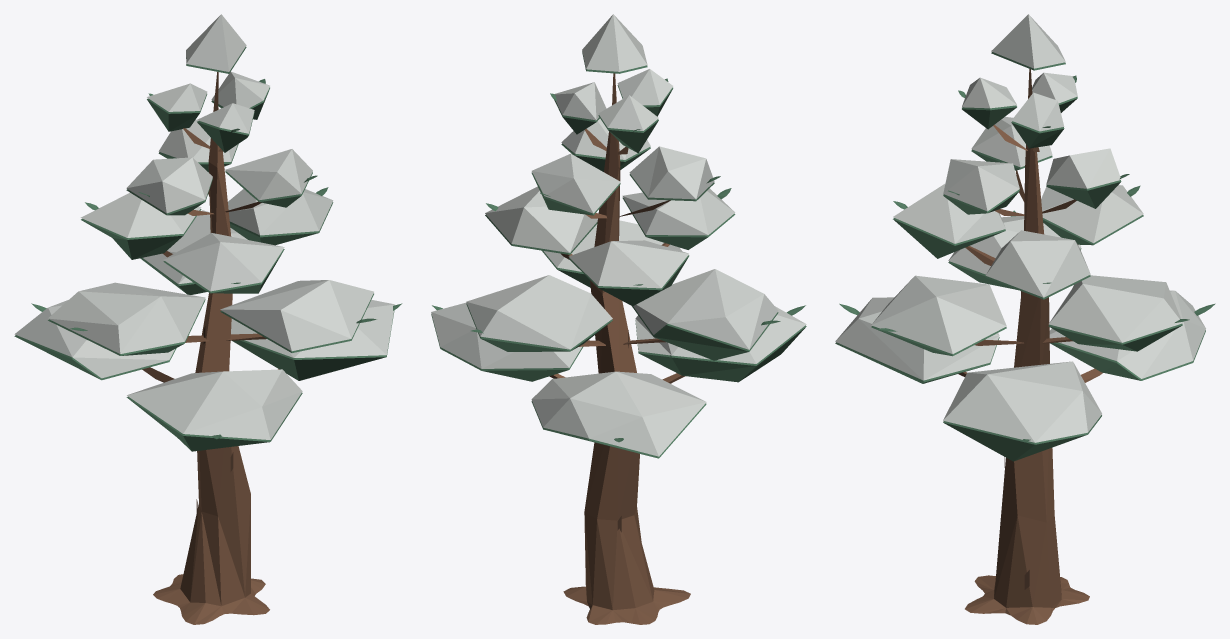
Rendered from pine_winter.glb.
3 views of the same model, side by side, from view 1: azimuth 30°, elevation 25°; view 2: azimuth 150°, elevation 25°; view 3: azimuth 270°, elevation 25° (orthographic).
Visible parts, largest first — view 1: snow, branches, leaves; view 2: snow, branches, leaves; view 3: snow, branches, leaves.
Boxes of the visible parts, x1,y1,x2,y2 form: snow: (14, 14, 394, 439); branches: (142, 72, 279, 624); leaves: (14, 47, 402, 451); snow: (431, 14, 806, 456); branches: (549, 73, 690, 624); leaves: (431, 51, 806, 458); snow: (835, 14, 1205, 442); branches: (958, 69, 1102, 624); leaves: (835, 52, 1215, 461).
Bounding box in the file's own units: 3.2 × 5.22 × 3.06.
